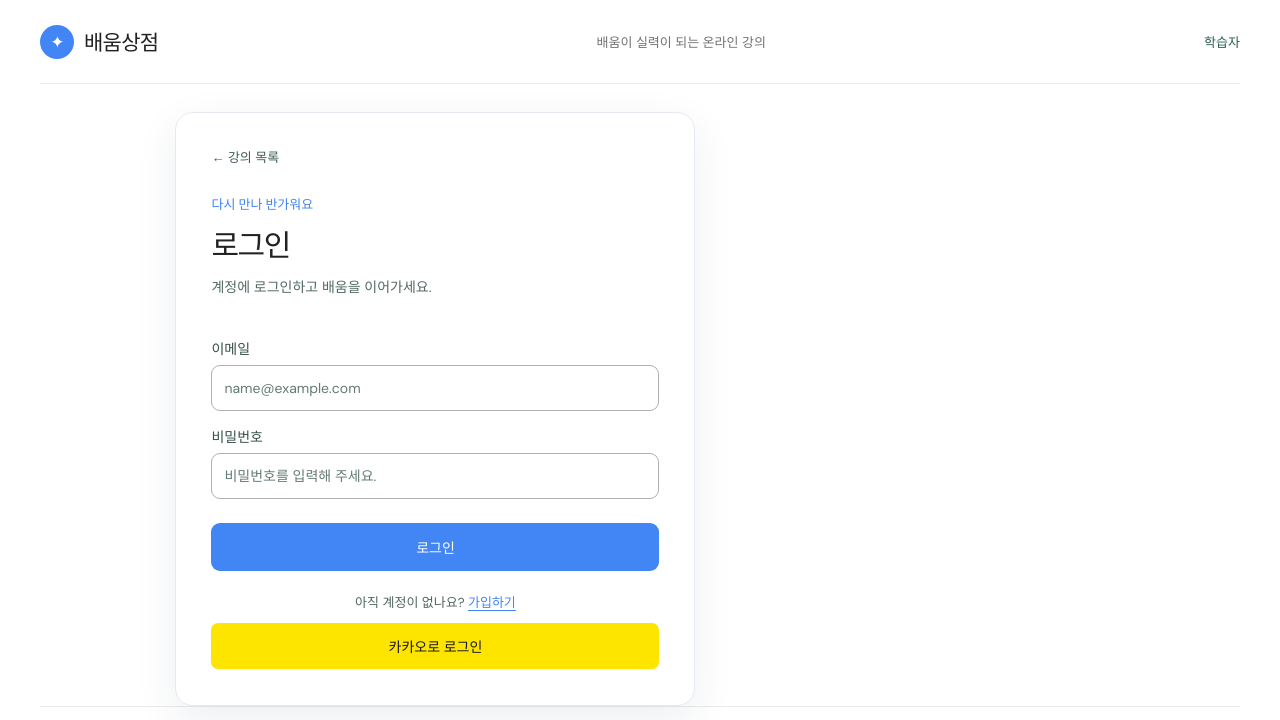
Test case: 배움상점 › 로그인 양식을 기존 API로 제출하고 강의 화면으로 돌아온다
The image size is (1280, 720).
In the field labelled "이메일": (436,388) [212, 364, 660, 410], type "learner@example.com"
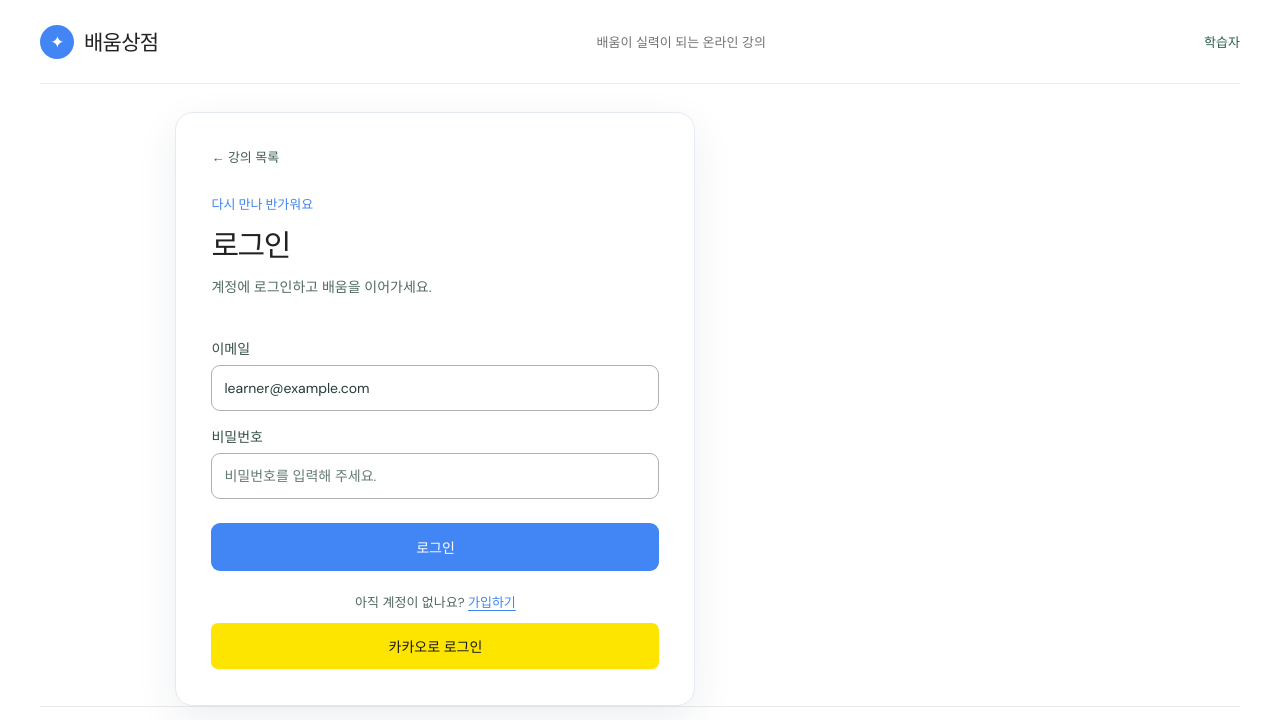
In the password field labelled "비밀번호": (436,476) [212, 452, 660, 498], type "secret"
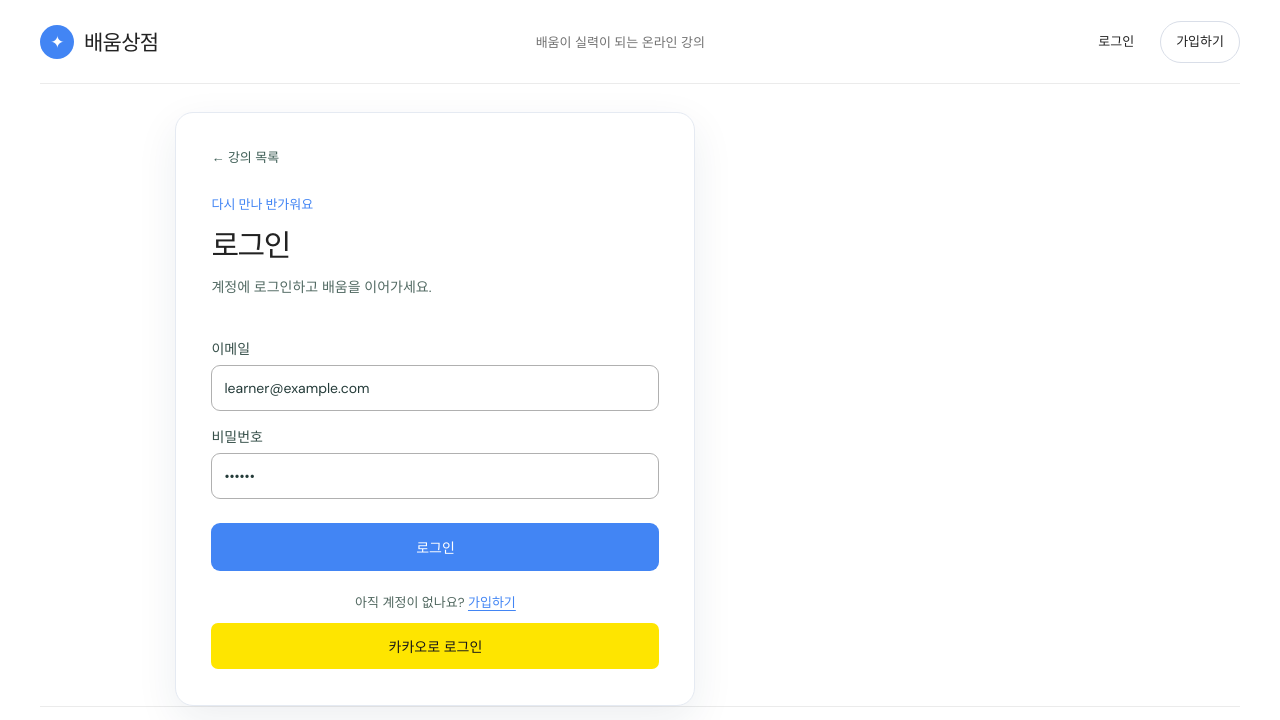
Submit the form, box [212, 322, 660, 570]
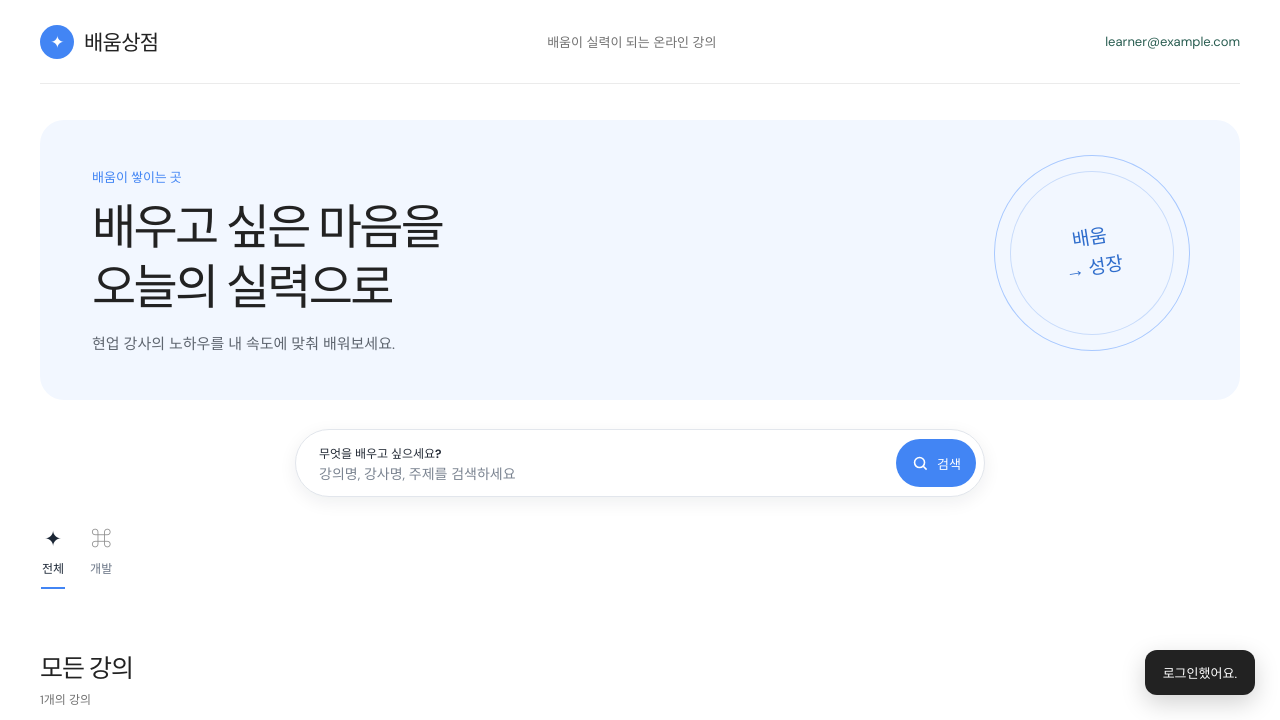
Result: the text with class "account-email" reads "learner@example.com" at [1105, 33, 1240, 50]
